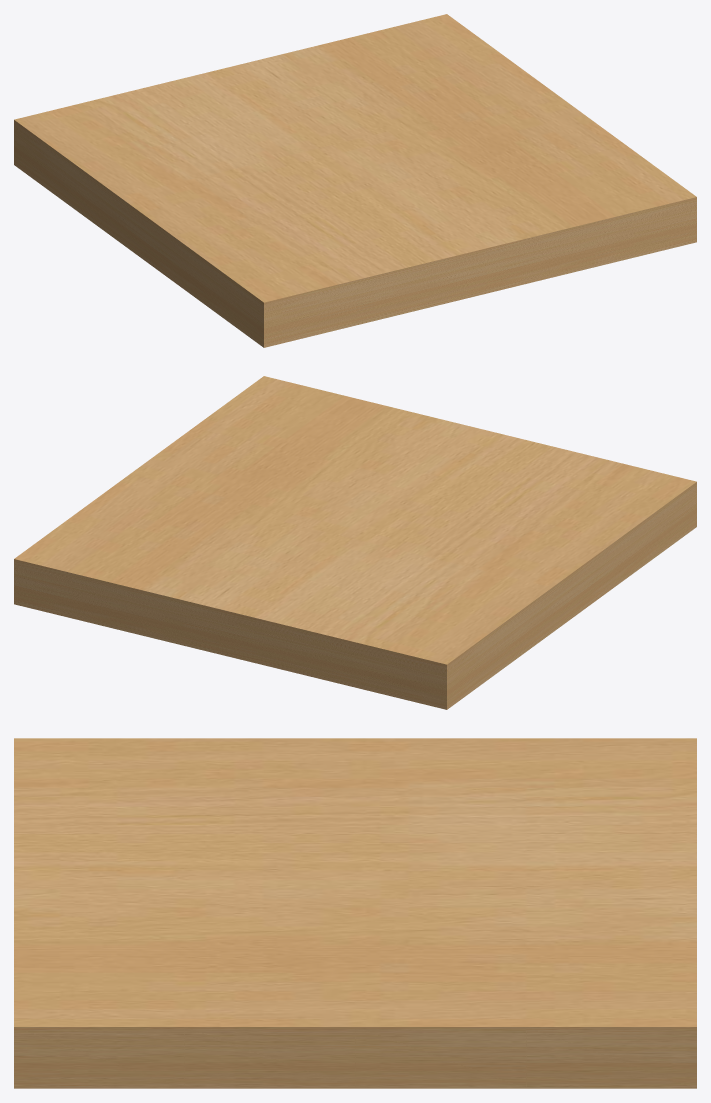
File: woodfloor.glb
3 views of the same model, one above another, from view 1: azimuth 30°, elevation 25°; view 2: azimuth 150°, elevation 25°; view 3: azimuth 270°, elevation 25° (orthographic). The views are drawn at different scales.
Parts seen in each view (by area): view 1: Floor; view 2: Floor; view 3: Floor.
Boxes of the visible parts, x1,y1,x2,y2 form: Floor: [14, 14, 696, 347]; Floor: [14, 376, 696, 709]; Floor: [14, 738, 696, 1088].
Size of the model in its own units: 20 by 2 by 20.
Materials: 1 (1 with a texture image).
